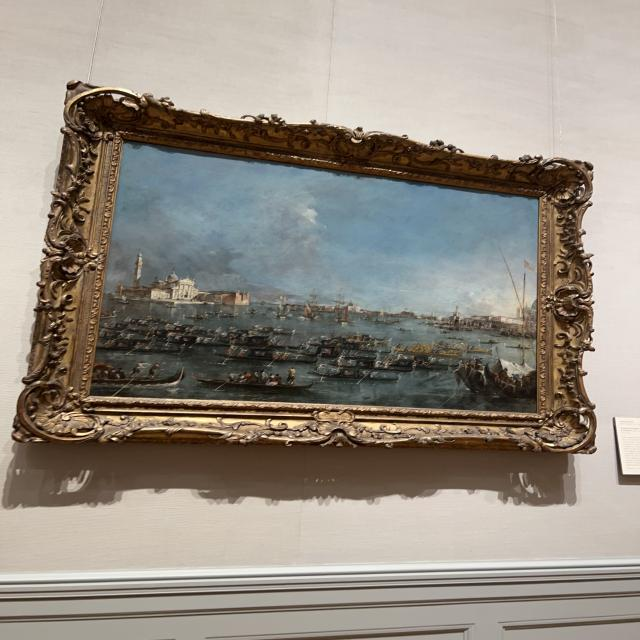ships: (89, 144, 538, 413)
